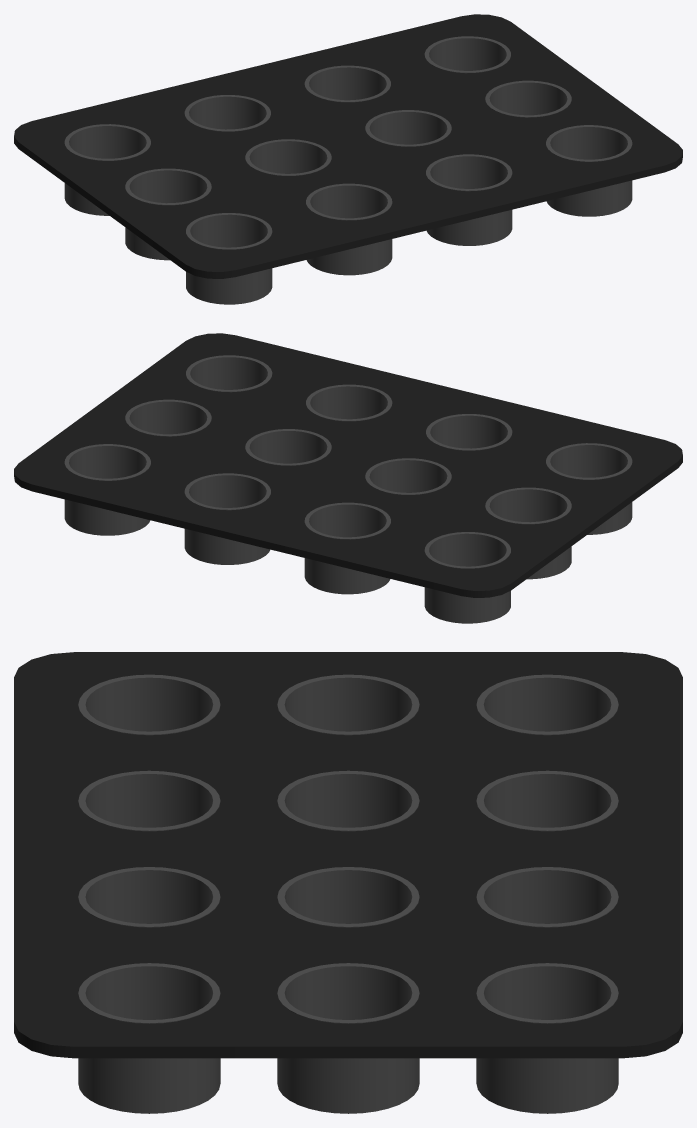
Rendered from tin_muffin.glb.
3 renders of one model, top to bottom at view 1: azimuth 30°, elevation 25°; view 2: azimuth 150°, elevation 25°; view 3: azimuth 270°, elevation 25°, orthographic. The views are drawn at different scales.
Parts seen in each view (by area): view 1: tin_muffin.001; view 2: tin_muffin.001; view 3: tin_muffin.001.
Part boxes in pixels (left/top/right/bottom): tin_muffin.001: left=14, top=14, right=682, bottom=304; tin_muffin.001: left=14, top=333, right=682, bottom=623; tin_muffin.001: left=14, top=652, right=682, bottom=1113.
Size of the model in its own units: 0.252 by 0.027 by 0.1805.
Materials: 1 (1 with a texture image).
